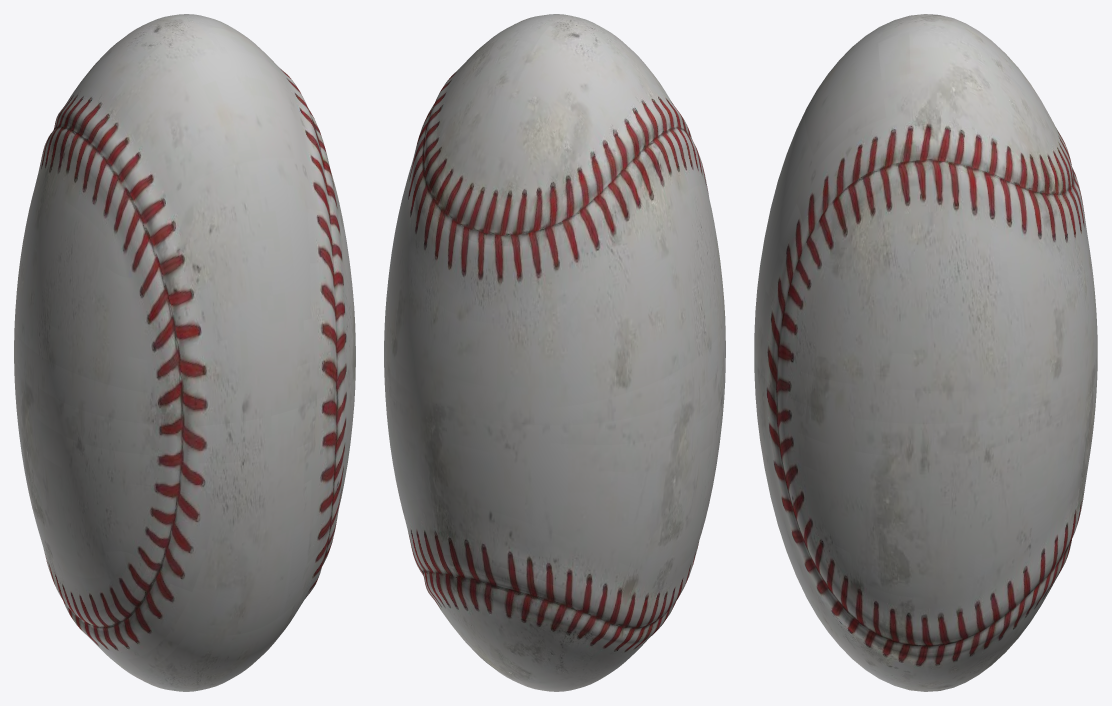
Rendered from baseball.glb.
The picture shows the model from 3 angles, left to right: view 1: azimuth 30°, elevation 25°; view 2: azimuth 150°, elevation 25°; view 3: azimuth 270°, elevation 25°; orthographic projection.
Visible parts, largest first — view 1: baseball_01.001; view 2: baseball_01.001; view 3: baseball_01.001.
Part boxes in pixels (x1=…): baseball_01.001: x1=14, y1=14, x2=355, y2=691; baseball_01.001: x1=384, y1=14, x2=725, y2=691; baseball_01.001: x1=754, y1=14, x2=1097, y2=691.
Size of the model in its own units: 1.7 by 3.71 by 1.74.
1 material, 1 textured.
